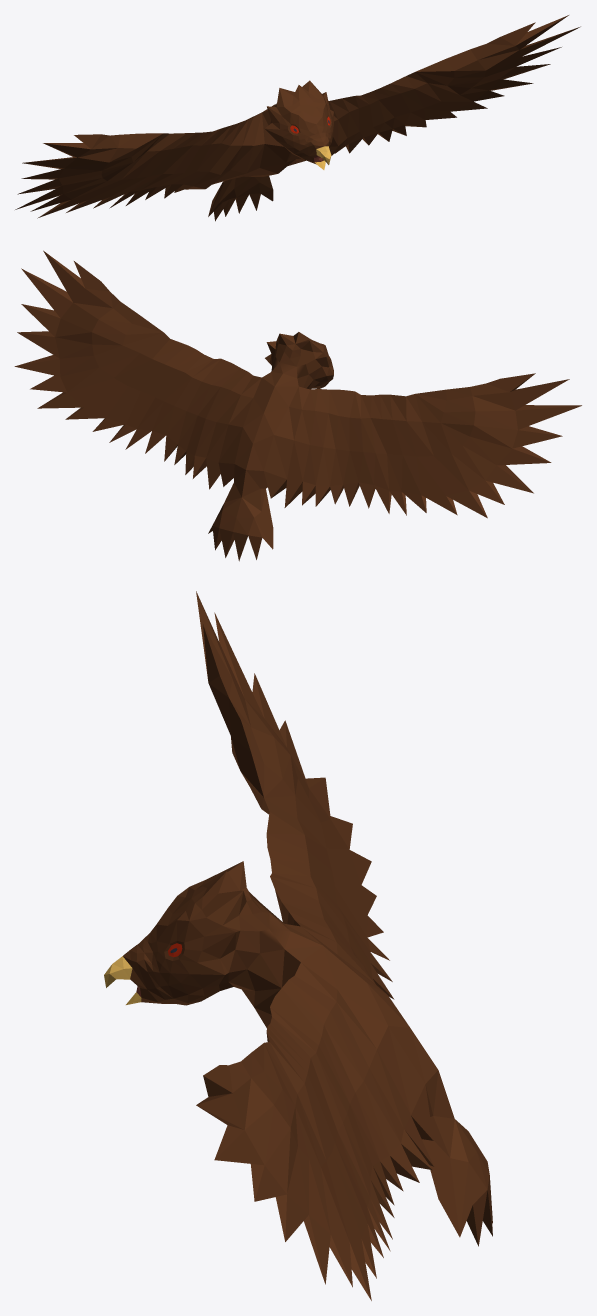
The model's file is Falcon2.obj.
3 views of the same model, one above another, from view 1: azimuth 30°, elevation 25°; view 2: azimuth 150°, elevation 25°; view 3: azimuth 270°, elevation 25° (orthographic). The views are drawn at different scales.
Parts seen in each view (by area): view 1: Falcon:Mesh; view 2: Falcon:Mesh; view 3: Falcon:Mesh.
Boxes of the visible parts, left/top/right/bottom form: Falcon:Mesh: left=15, top=15, right=580, bottom=221; Falcon:Mesh: left=14, top=250, right=581, bottom=561; Falcon:Mesh: left=104, top=591, right=492, bottom=1300.
Bounding box in the file's own units: 73.23 × 23.82 × 21.95.
1 material, 1 textured.
